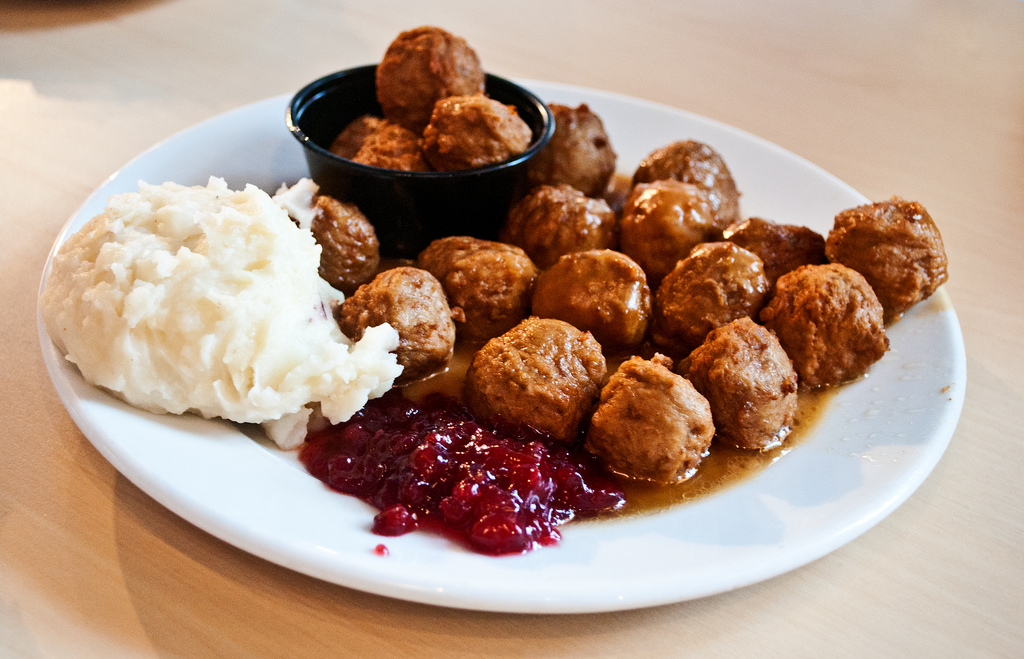meatballs: (464, 316, 605, 436), (680, 324, 794, 447), (773, 265, 882, 389), (827, 201, 947, 313), (591, 368, 704, 485), (342, 270, 452, 381), (423, 233, 540, 319), (657, 246, 770, 329), (375, 23, 482, 108), (544, 255, 652, 336), (647, 133, 736, 222), (429, 96, 527, 169), (622, 178, 708, 253), (512, 188, 617, 248), (310, 192, 374, 289), (543, 100, 610, 187), (329, 111, 426, 167), (737, 218, 818, 270)
